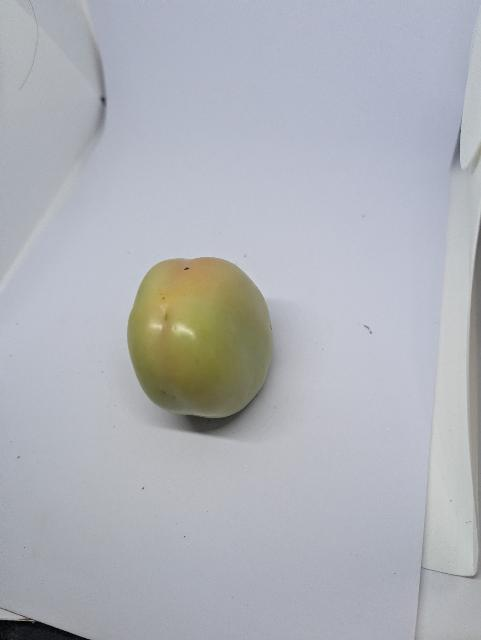breaker: (126, 255, 277, 421)
